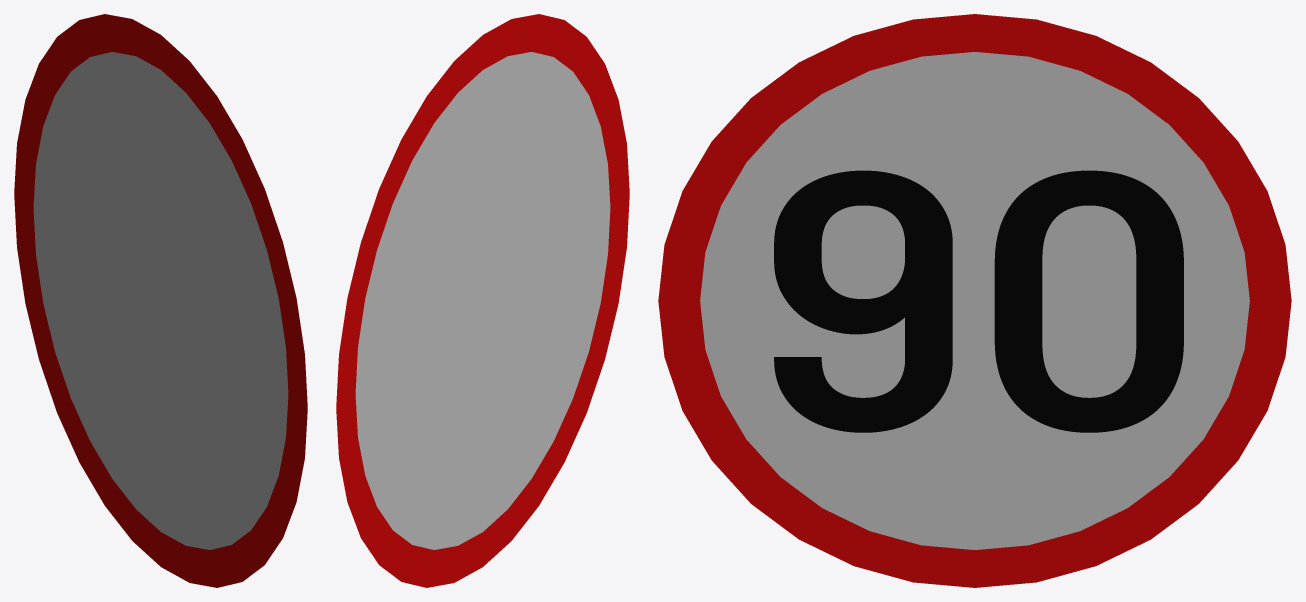
3 views of the same model, side by side, from view 1: azimuth 30°, elevation 25°; view 2: azimuth 150°, elevation 25°; view 3: azimuth 270°, elevation 25° (orthographic). The views are drawn at different scales.
Parts seen in each view (by area): view 1: Text; view 2: Text; view 3: Text.
Boxes of the visible parts, x1,y1,x2,y2 form: Text: (14,14,307,587); Text: (336,14,629,587); Text: (658,14,1291,587).
Bounding box in the file's own units: 0.00518 × 2 × 2.
